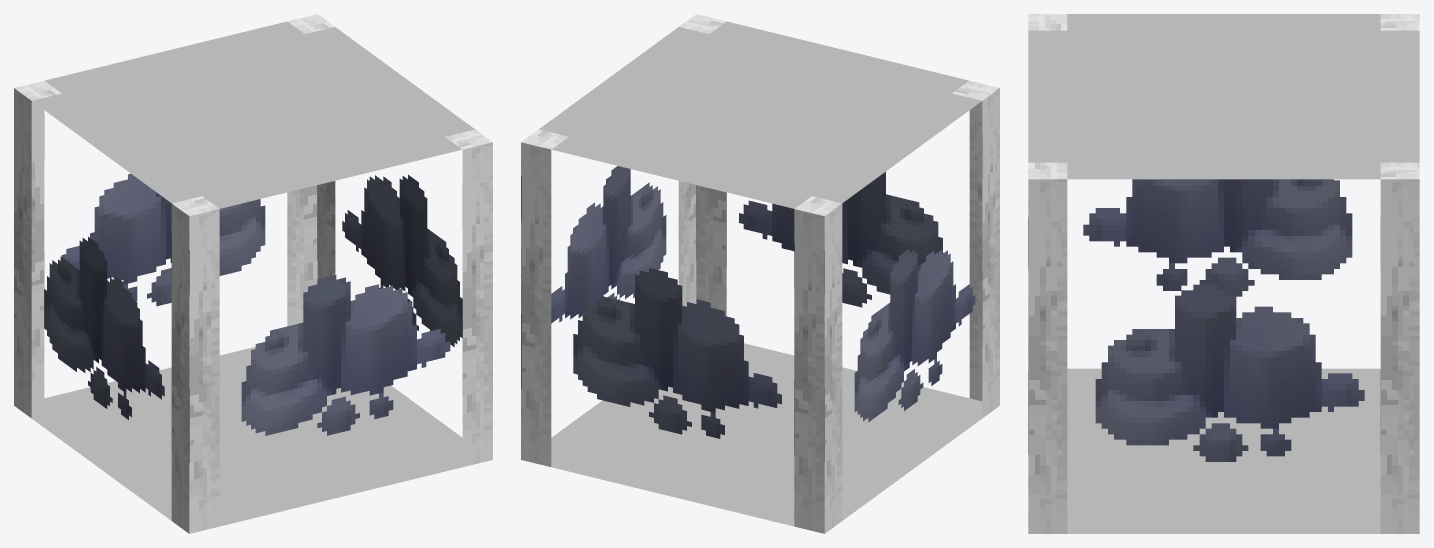
The model's file is wallFortified.dae.
3 views of the same model, side by side, from view 1: azimuth 30°, elevation 25°; view 2: azimuth 150°, elevation 25°; view 3: azimuth 270°, elevation 25° (orthographic). The views are drawn at different scales.
Visible parts, largest first — view 1: wallFortified; view 2: wallFortified; view 3: wallFortified.
Boxes of the visible parts, x1,y1,x2,y2 form: wallFortified: (14, 14, 492, 533); wallFortified: (521, 14, 999, 533); wallFortified: (1028, 14, 1419, 533).
Size of the model in its own units: 1 by 1 by 1.
